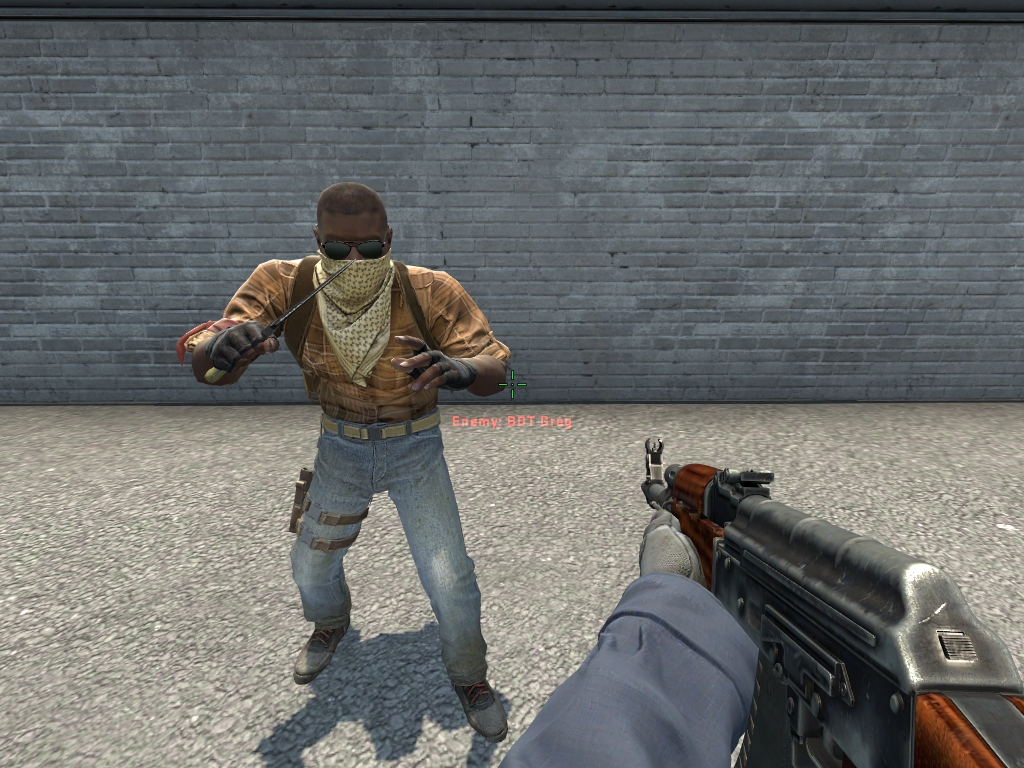tr head: (317, 185, 389, 298)
